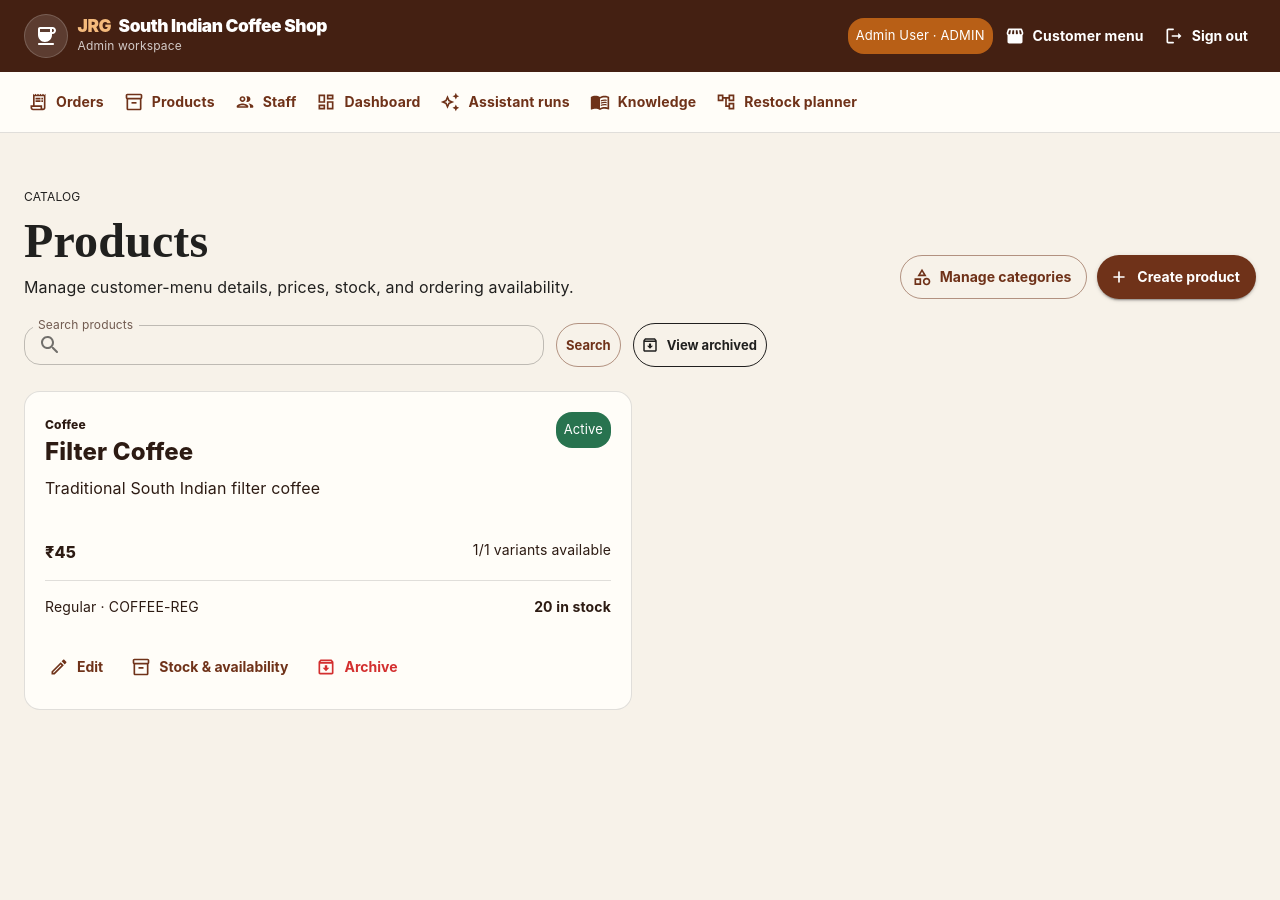
Test case: admin product management › keeps the label clear of a value the form filled in without a change event
Step 1. Click the button "Manage categories" → (994, 277), box [900,255,1087,299]
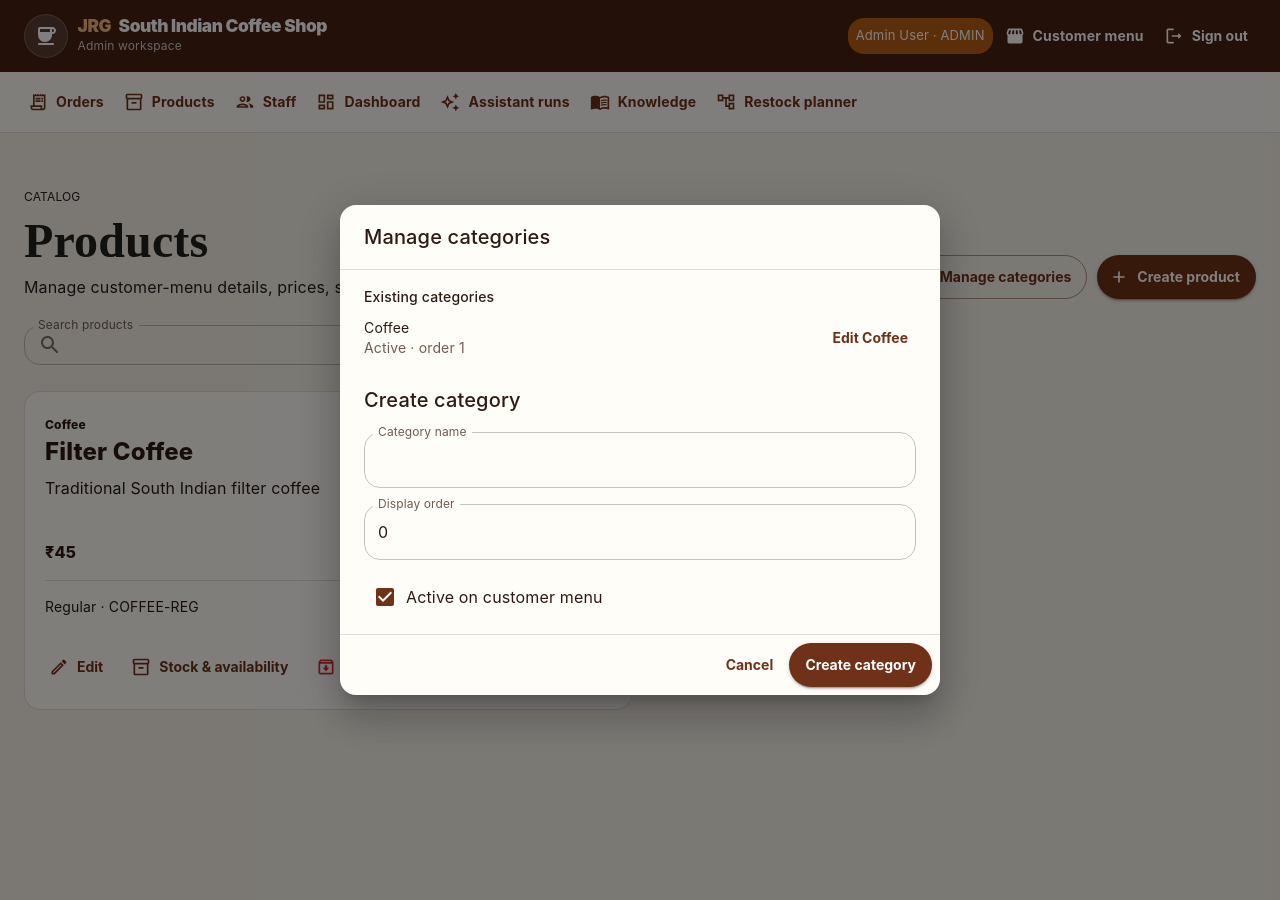
Step 2. Click the button "Edit Coffee" → (870, 338), box [824,316,916,360]
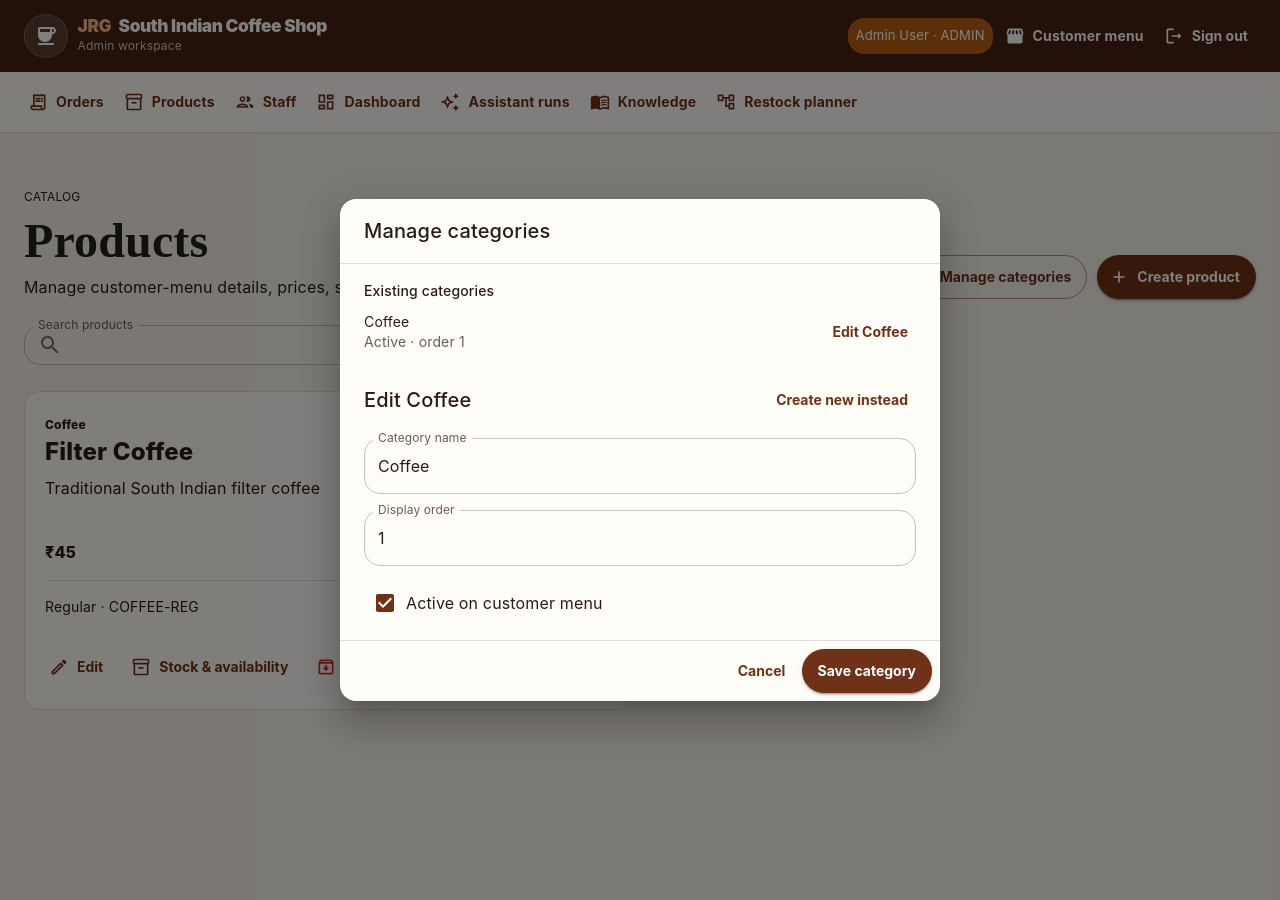
Check: the field labelled "Category name" holds "Coffee", box [364,438,916,494]
